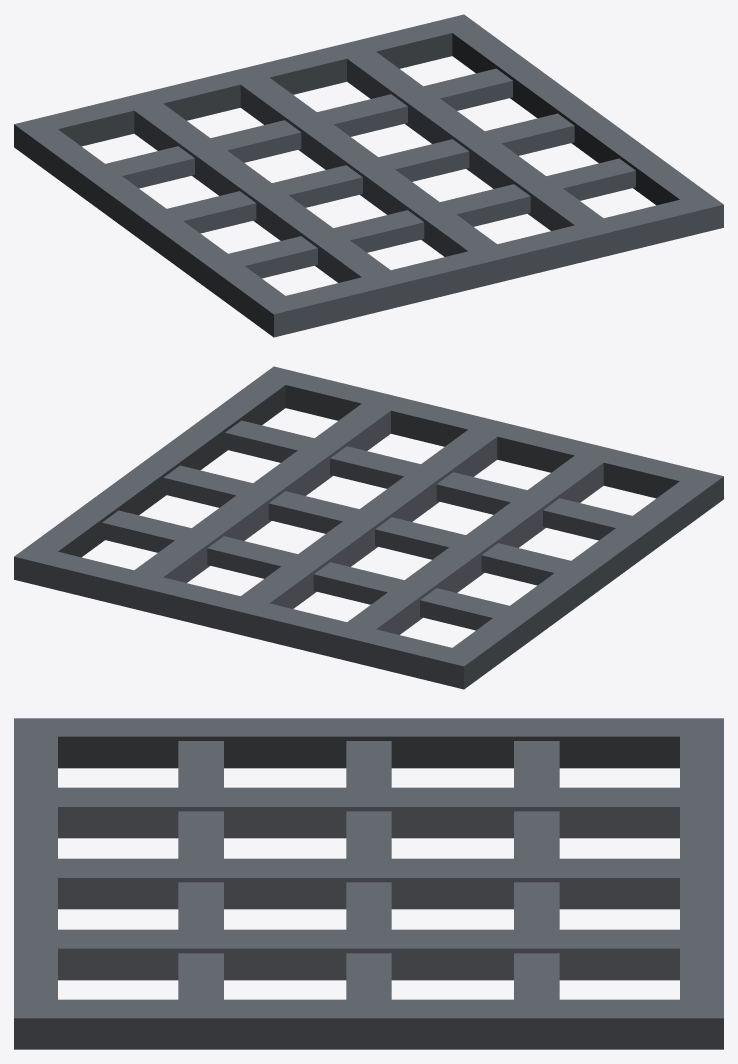
File: SD_Prop_Grate_01.fbx
The picture shows the model from 3 angles, top to bottom: view 1: azimuth 30°, elevation 25°; view 2: azimuth 150°, elevation 25°; view 3: azimuth 270°, elevation 25°; orthographic projection. The views are drawn at different scales.
Visible parts, largest first — view 1: SD_Prop_Grate_01; view 2: SD_Prop_Grate_01; view 3: SD_Prop_Grate_01.
Part boxes in pixels (bbox=[...]): SD_Prop_Grate_01: bbox=[14, 14, 723, 337]; SD_Prop_Grate_01: bbox=[14, 366, 723, 689]; SD_Prop_Grate_01: bbox=[14, 718, 723, 1049].
Bounding box in the file's own units: 4.66 × 0.2285 × 4.66.
